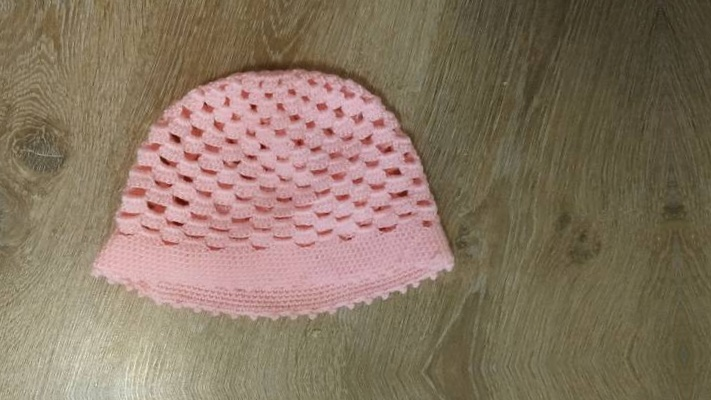Hat: (67, 12, 480, 345)
